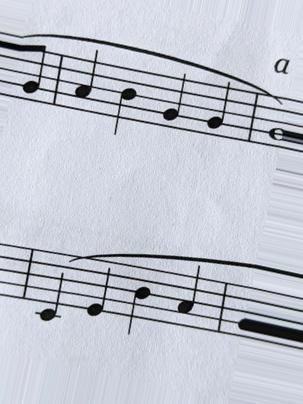note: (33, 247, 67, 328), (122, 259, 152, 341), (71, 46, 102, 119), (110, 61, 138, 140), (173, 263, 203, 333), (201, 78, 232, 144), (84, 257, 114, 322), (159, 68, 189, 132)
